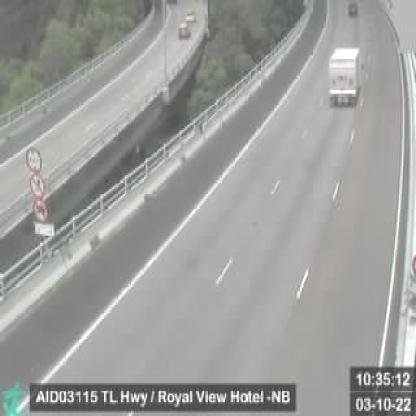Truck: (329, 45, 360, 108)
